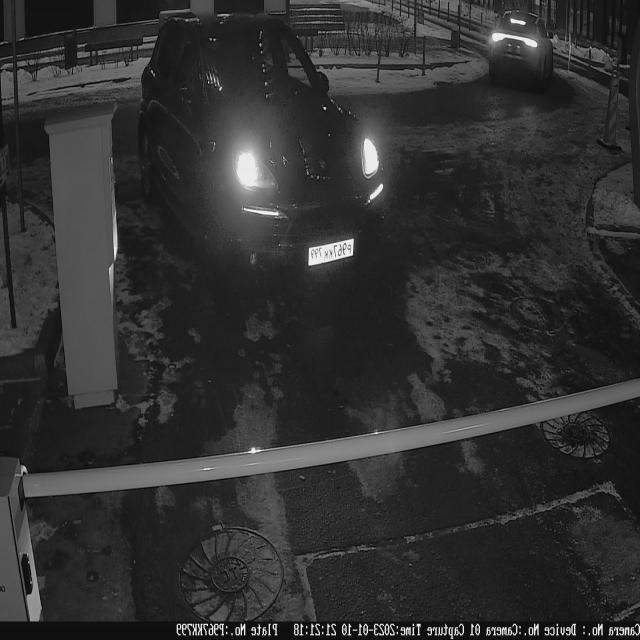car-plate-numbers: (307, 234, 358, 272)
